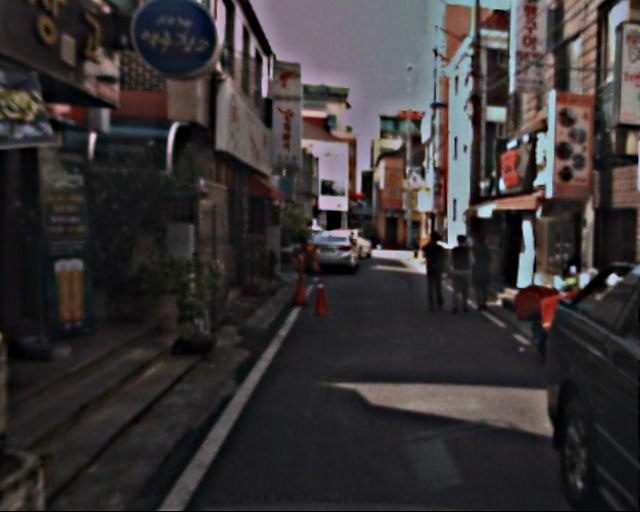person: (465, 232, 501, 319), (417, 231, 452, 317), (444, 231, 479, 316)
